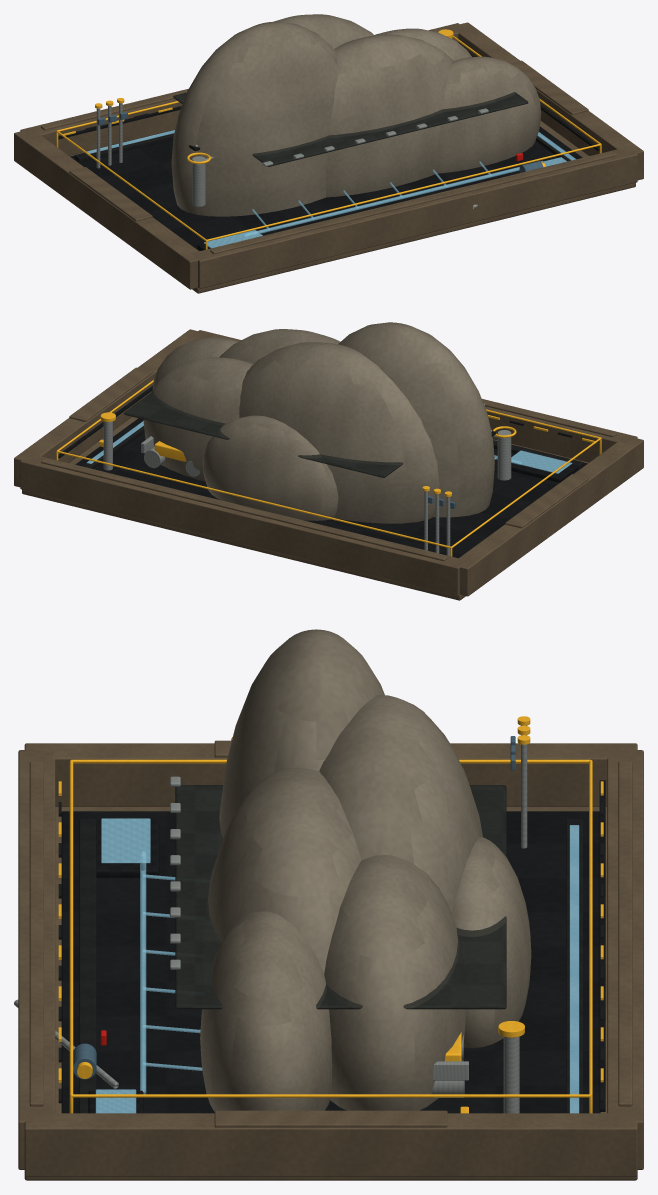
The model's file is Level13_DryStack_StorageArea_IndustrialUV.fbx.
3 views of the same model, one above another, from view 1: azimuth 30°, elevation 25°; view 2: azimuth 150°, elevation 25°; view 3: azimuth 270°, elevation 25° (orthographic). The views are drawn at different scales.
Visible parts, largest first — view 1: DryStack_Pile_0, DryStack_Pile_2, DSTF_Earth_Berm_South, DSTF_HDPE_Liner_Floor, DryStack_Pile_4, DSTF_Earth_Berm_West, DSTF_Earth_Berm_East, DSTF_Earth_Berm_North, DryStack_SafeCover, DSTF_Compacted_Subgrade, DSTF_Earth_Berm_South_Compacted_Crest, DryStack_Pile_1 (+10 smaller); view 2: DryStack_Pile_1, DSTF_Earth_Berm_North, DryStack_Pile_0, DryStack_Pile_5, DSTF_HDPE_Liner_Floor, DSTF_Earth_Berm_West, DryStack_Pile_3, DSTF_Earth_Berm_South, DSTF_Earth_Berm_East, DryStack_SafeCover, DSTF_Compacted_Subgrade, DSTF_Earth_Berm_North_Compacted_Crest (+14 smaller); view 3: DSTF_HDPE_Liner_Floor, DSTF_Earth_Berm_East, DryStack_Pile_3, DryStack_Pile_4, DryStack_Pile_1, DryStack_Pile_2, DSTF_Earth_Berm_West, DryStack_SafeCover, DryStack_Pile_0, DSTF_Earth_Berm_South, DSTF_Earth_Berm_North, DryStack_Pile_5 (+18 smaller).
Part boxes in pixels (<box>): DryStack_Pile_0: <box>171,21,337,216</box>; DryStack_Pile_2: <box>325,34,453,197</box>; DSTF_Earth_Berm_South: <box>191,149,637,288</box>; DSTF_HDPE_Liner_Floor: <box>70,126,582,251</box>; DryStack_Pile_4: <box>436,56,541,173</box>; DSTF_Earth_Berm_West: <box>14,131,198,289</box>; DSTF_Earth_Berm_East: <box>451,22,643,180</box>; DSTF_Earth_Berm_North: <box>20,23,463,155</box>; DryStack_SafeCover: <box>173,92,528,166</box>; DSTF_Compacted_Subgrade: <box>69,121,635,293</box>; DSTF_Earth_Berm_South_Compacted_Crest: <box>210,151,616,254</box>; DryStack_Pile_1: <box>274,14,374,48</box>; DryStack_Pile_1: <box>239,342,439,523</box>; DSTF_Earth_Berm_North: <box>20,454,466,595</box>; DryStack_Pile_0: <box>338,322,494,517</box>; DryStack_Pile_5: <box>202,415,338,520</box>; DSTF_HDPE_Liner_Floor: <box>75,418,587,558</box>; DSTF_Earth_Berm_West: <box>459,437,643,596</box>; DryStack_Pile_3: <box>143,357,253,481</box>; DSTF_Earth_Berm_South: <box>192,330,637,462</box>; DSTF_Earth_Berm_East: <box>14,329,204,487</box>; DryStack_SafeCover: <box>124,391,403,477</box>; DSTF_Compacted_Subgrade: <box>22,417,588,600</box>; DSTF_Earth_Berm_North_Compacted_Crest: <box>41,458,447,561</box>; DSTF_HDPE_Liner_Floor: <box>61,811,600,1113</box>; DSTF_Earth_Berm_East: <box>24,1113,637,1176</box>; DryStack_Pile_3: <box>324,855,466,1110</box>; DryStack_Pile_4: <box>200,911,332,1111</box>; DryStack_Pile_1: <box>319,695,482,912</box>; DryStack_Pile_2: <box>207,768,361,973</box>; DSTF_Earth_Berm_West: <box>24,743,637,806</box>; DryStack_SafeCover: <box>175,785,506,1009</box>; DryStack_Pile_0: <box>219,629,384,839</box>; DSTF_Earth_Berm_South: <box>18,750,55,1169</box>; DSTF_Earth_Berm_North: <box>607,750,643,1169</box>; DryStack_Pile_5: <box>451,837,531,1048</box>.
Bounding box in the file's own units: 1845 × 960 × 1274.
11 materials, 11 textured.
